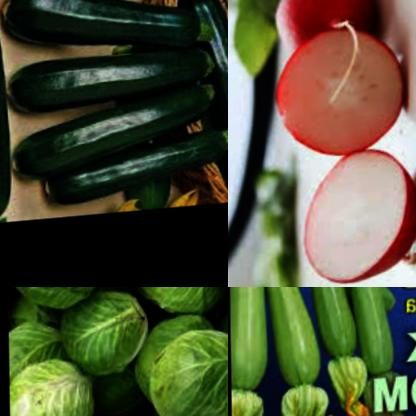cabbage: (53, 287, 156, 386), (139, 329, 228, 416), (123, 287, 228, 341), (5, 287, 127, 333), (6, 356, 93, 416), (209, 287, 228, 378)
rediska: (274, 21, 410, 165), (298, 148, 416, 287), (267, 0, 382, 54)
vegetable marrow: (29, 107, 228, 210), (4, 88, 222, 180), (0, 42, 217, 118), (1, 0, 217, 63), (182, 0, 228, 207), (255, 287, 318, 416), (328, 287, 395, 406), (228, 287, 275, 416), (305, 287, 355, 376)
